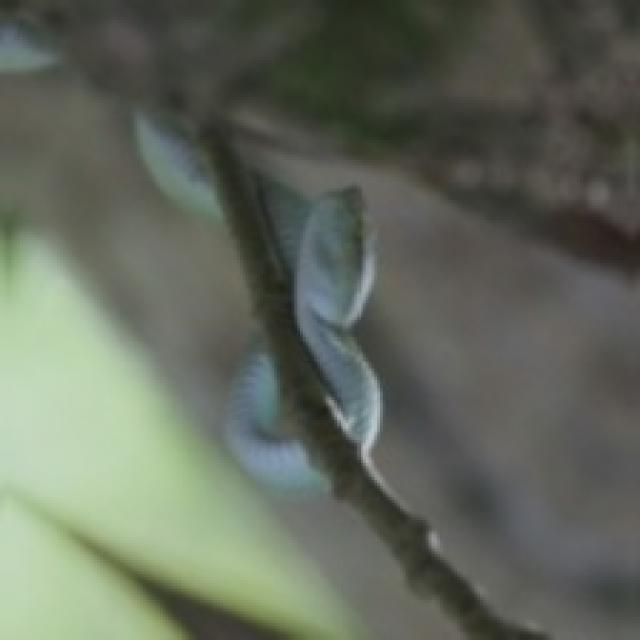north ph temple pitviper: (134, 106, 380, 491)
